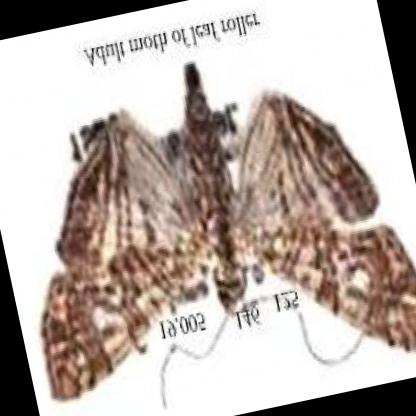Leaf Webber: (38, 64, 416, 408)
